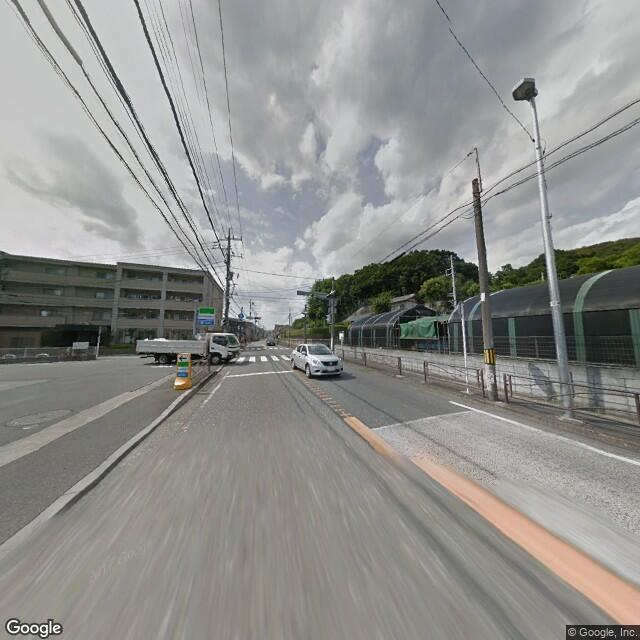family_mart: (195, 302, 219, 329), (173, 360, 191, 381)
